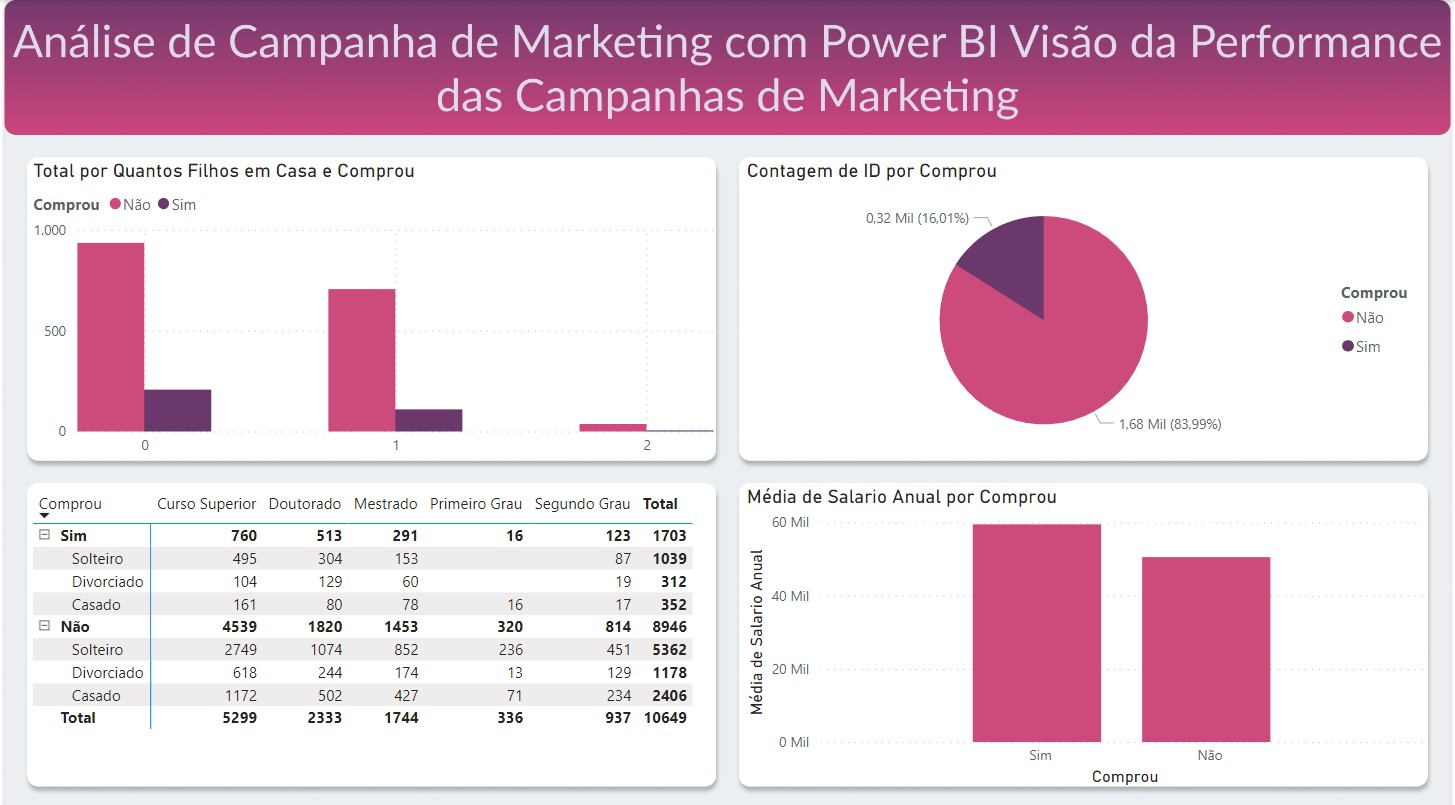

What the dashboard file says about the page in this screenshot:
{"tool":"powerbi","page":{"name":"Visão Campanha","canvas":[1280,720],"ordinal":2},"visuals":[{"type":"pieChart","fields":{"Category":["dados_marketing.Comprou"],"Y":["CountNonNull(dados_marketing.ID)"]},"box":[652.2,139.2,610.5,265.4],"z":0},{"type":"clusteredColumnChart","fields":{"Category":["dados_marketing.Comprou"],"Y":["Avg(dados_marketing.Salario Anual)"]},"box":[652.2,426,610.5,270.1],"z":1000},{"type":"pivotTable","fields":{"Rows":["dados_marketing.Comprou","dados_marketing.Estado Civil"],"Values":["Sum(dados_marketing.Numero Visitas WebSite Mes)"],"Columns":["dados_marketing.Escolaridade"]},"box":[23.8,426,608.1,270.1],"z":2000},{"type":"clusteredColumnChart","fields":{"Category":["dados_marketing.Filhos em Casa"],"Series":["dados_marketing.Comprou"],"Y":["CountNonNull(dados_marketing.Filhos em Casa)"]},"box":[23.8,139.2,608.1,270.1],"z":3000}]}

Visuals, with their boxes in screenshot pixels (x1, y1, x2, y2), scaled from the page's 1280x720 canvas onto the 1455x805 screenshot:
pieChart - dados_marketing.Comprou x CountNonNull(dados_marketing.ID): <bbox>741, 156, 1435, 452</bbox>
clusteredColumnChart - dados_marketing.Comprou x Avg(dados_marketing.Salario Anual): <bbox>741, 476, 1435, 778</bbox>
pivotTable - dados_marketing.Comprou x dados_marketing.Estado Civil: <bbox>27, 476, 718, 778</bbox>
clusteredColumnChart - dados_marketing.Filhos em Casa x dados_marketing.Comprou: <bbox>27, 156, 718, 458</bbox>
